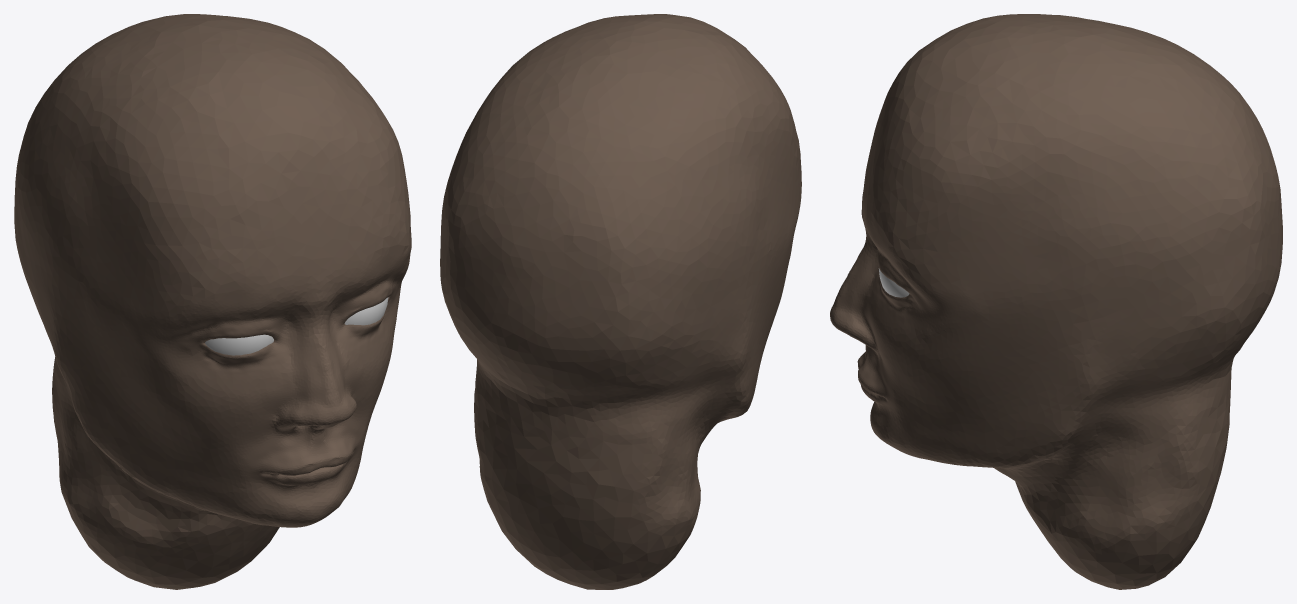
Rendered from head3.fbx.
3 renders of one model, left to right at view 1: azimuth 30°, elevation 25°; view 2: azimuth 150°, elevation 25°; view 3: azimuth 270°, elevation 25°, orthographic. The views are drawn at different scales.
Visible parts, largest first — view 1: Quad Sphere, Sphere; view 2: Quad Sphere; view 3: Quad Sphere.
Part boxes in pixels (x1,y1,x2,y2): Quad Sphere: (14,14,411,589); Sphere: (205,297,388,355); Quad Sphere: (440,14,801,589); Quad Sphere: (830,14,1282,589).
Bounding box in the file's own units: 223 × 402 × 302.
